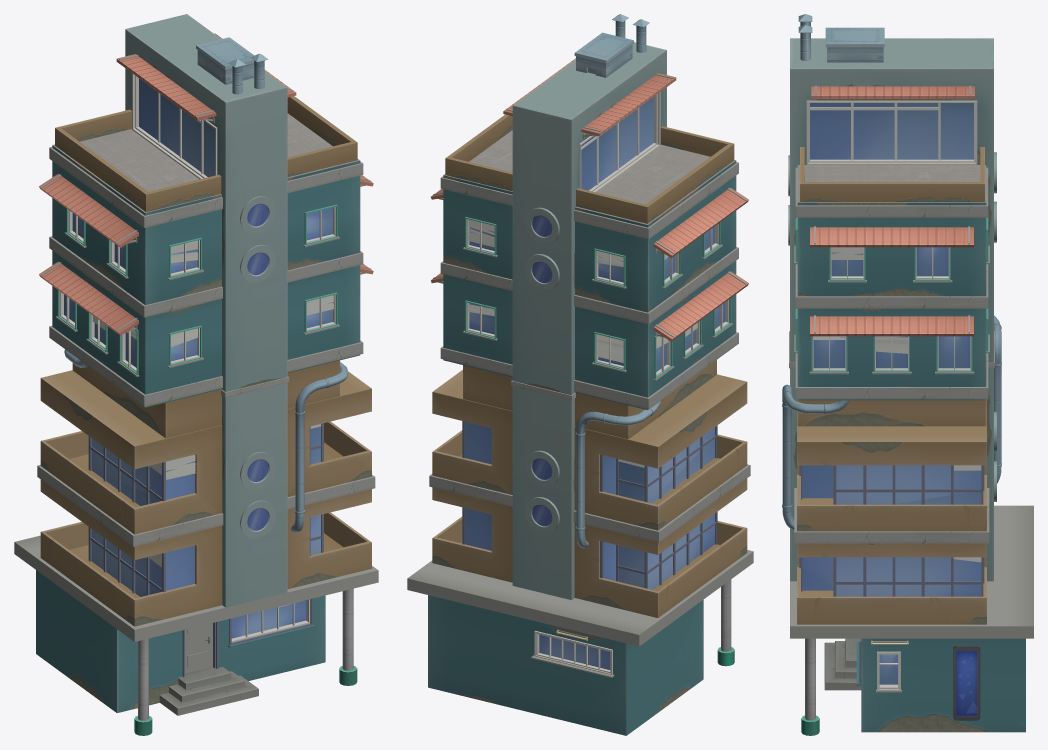
The model's file is Building_06_1.fbx.
The picture shows the model from 3 angles, left to right: view 1: azimuth 30°, elevation 25°; view 2: azimuth 150°, elevation 25°; view 3: azimuth 270°, elevation 25°; orthographic projection. The views are drawn at different scales.
Parts seen in each view (by area): view 1: polySurface2643; view 2: polySurface2643; view 3: polySurface2643.
Boxes of the visible parts, x1,y1,x2,y2 form: polySurface2643: [14, 14, 378, 735]; polySurface2643: [407, 14, 753, 735]; polySurface2643: [782, 14, 1033, 735].
Size of the model in its own units: 980 by 2405 by 829.
